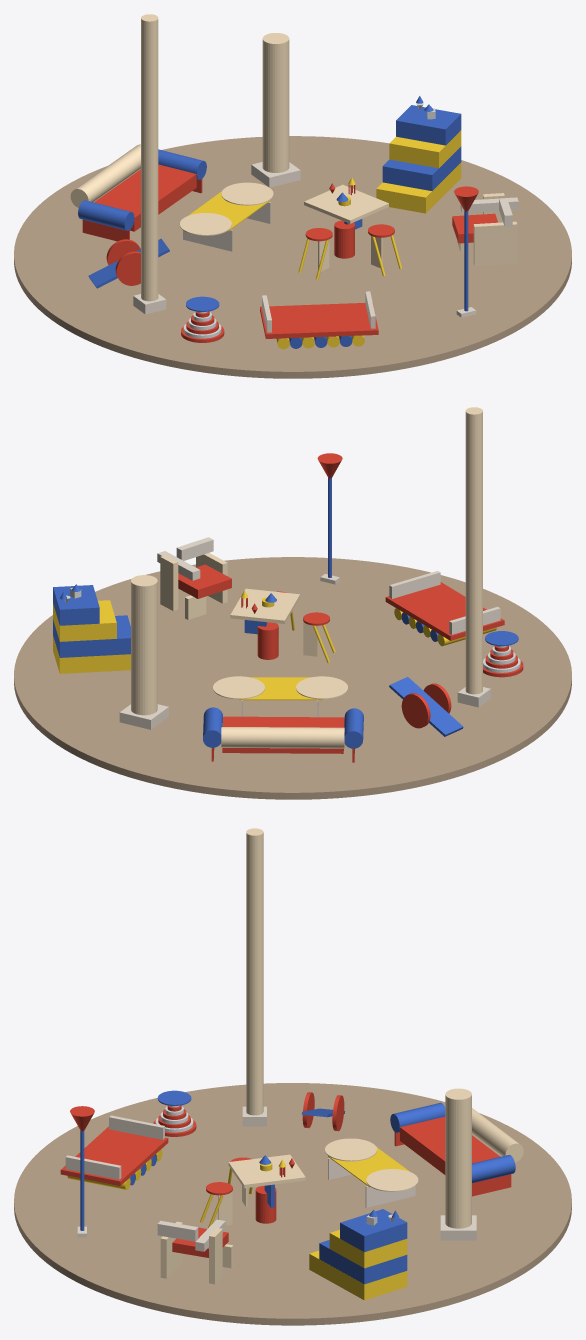
The model's file is stanzaconfisica.gltf.
3 renders of one model, top to bottom at view 1: azimuth 30°, elevation 25°; view 2: azimuth 150°, elevation 25°; view 3: azimuth 270°, elevation 25°, orthographic.
Parts seen in each view (by area): view 1: Cylinder.150, Cylinder.149, Cylinder.127, Cube.090, Cube.086, Cube.105, Cube.097, Cube.100, Cube.101, Cube.087, Cylinder.114, Cube.102 (+16 smaller); view 2: Cylinder.150, Cylinder.149, Cylinder.127, Cylinder.114, Cube.090, Cube.086, Cube.101, Cube.087, Cube.105, Cube.102, Cube.100, Cube.106 (+14 smaller); view 3: Cylinder.150, Cylinder.149, Cylinder.127, Cube.090, Cube.086, Cube.105, Cube.100, Cube.087, Cube.101, Cube.102, Cylinder.114, Cube.091 (+12 smaller).
Boxes of the visible parts, x1,y1,x2,y2 form: Cylinder.150: (14,136,571,378); Cylinder.149: (141,14,158,301); Cylinder.127: (262,33,289,172); Cube.090: (260,303,378,338); Cube.086: (94,164,196,231); Cube.105: (396,105,461,145); Cube.097: (473,221,517,265); Cube.100: (376,162,461,213); Cube.101: (382,146,461,190); Cube.087: (304,184,388,223); Cylinder.114: (70,144,140,207); Cube.102: (389,130,461,168); Cylinder.150: (14,557,571,799); Cylinder.149: (465,407,482,694); Cylinder.127: (131,575,157,715); Cylinder.114: (221,727,344,748); Cube.090: (385,582,504,640); Cube.086: (222,716,344,753); Cube.101: (53,615,130,657); Cube.087: (230,588,299,623); Cube.105: (53,585,99,625); Cube.102: (53,600,116,641); Cube.100: (53,636,130,673); Cube.106: (389,677,463,736); Cylinder.150: (14,1083,571,1325); Cylinder.149: (246,828,263,1115); Cylinder.127: (445,1088,471,1228); Cube.090: (60,1126,168,1185); Cube.086: (400,1116,500,1174); Cube.105: (340,1209,407,1252); Cube.100: (309,1250,407,1300); Cube.087: (228,1154,305,1188); Cube.101: (319,1240,407,1284); Cube.102: (329,1230,407,1268); Cylinder.114: (472,1108,523,1162); Cube.091: (328,1147,409,1187).
Bounding box in the file's own units: 6.1 × 3.57 × 6.1.
